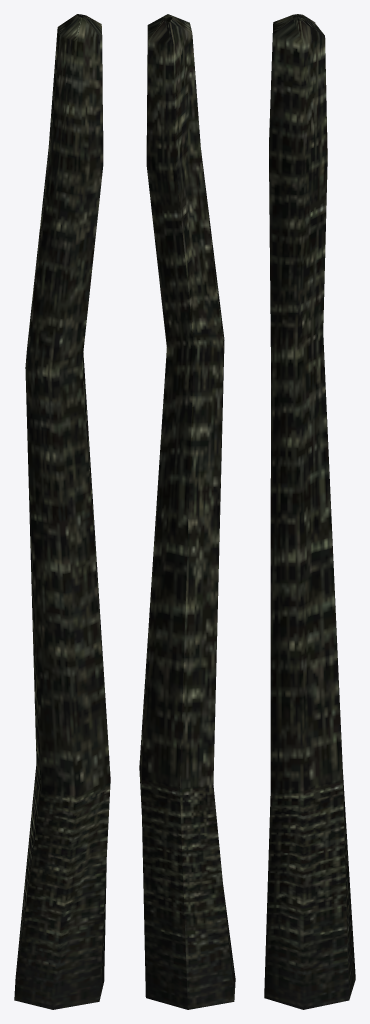
File: stam.obj
3 renders of one model, left to right at view 1: azimuth 30°, elevation 25°; view 2: azimuth 210°, elevation 25°; view 3: azimuth 270°, elevation 25°, orthographic.
Parts seen in each view (by area): view 1: stam; view 2: stam; view 3: stam.
Boxes of the visible parts, x1,y1,x2,y2 form: stam: [14, 14, 110, 1009]; stam: [139, 14, 235, 1009]; stam: [264, 14, 355, 1009].
Size of the model in its own units: 13.39 by 136 by 11.54.
